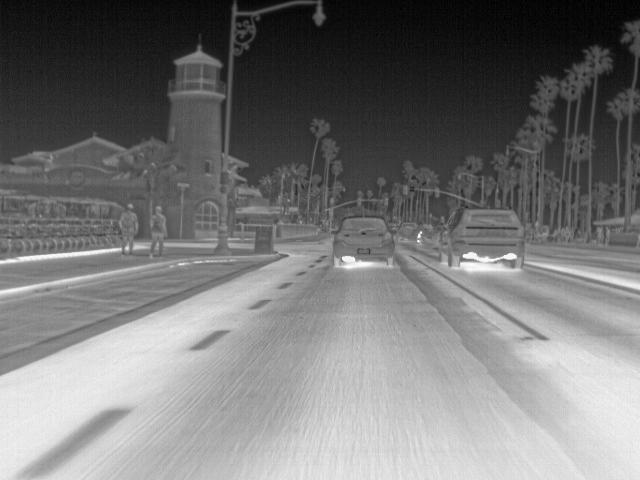car: (438, 207, 526, 271), (331, 213, 397, 265), (400, 222, 420, 242)
person: (144, 205, 170, 254), (117, 203, 141, 253)
